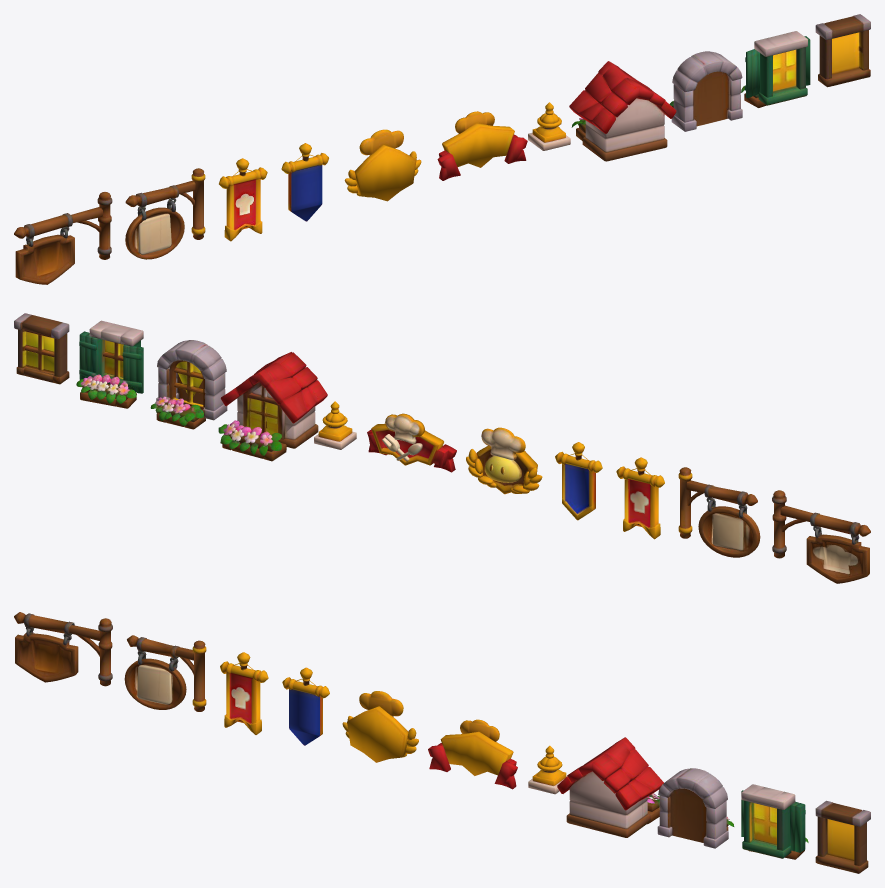
Rendered from restaurant_pieces.glb.
The picture shows the model from 3 angles, top to bottom: view 1: azimuth 30°, elevation 25°; view 2: azimuth 150°, elevation 25°; view 3: azimuth 330°, elevation 25°; orthographic projection.
Visible parts, largest first — view 1: Dormer_RedRoof, Window_Arched, Sign_ChefShield, Sign_OvalBlank, Window_Shutters, ChefCrest_Ribbon, ChefCrest_Slime, Window_Plain, Banner_ChefRed, Banner_Blue, Finial_GoldStone; view 2: Dormer_RedRoof, Window_Arched, Window_Shutters, Sign_ChefShield, Sign_OvalBlank, ChefCrest_Slime, Window_Plain, ChefCrest_Ribbon, Banner_ChefRed, Banner_Blue, Finial_GoldStone; view 3: Dormer_RedRoof, Sign_ChefShield, Window_Arched, Sign_OvalBlank, Window_Shutters, ChefCrest_Ribbon, ChefCrest_Slime, Window_Plain, Banner_ChefRed, Banner_Blue, Finial_GoldStone.
Boxes of the visible parts, bbox=[...] form: Dormer_RedRoof: bbox=[569, 61, 676, 161]; Window_Arched: bbox=[669, 51, 742, 131]; Sign_ChefShield: bbox=[14, 192, 112, 284]; Sign_OvalBlank: bbox=[125, 168, 205, 259]; Window_Shutters: bbox=[741, 31, 810, 107]; ChefCrest_Ribbon: bbox=[437, 111, 527, 180]; ChefCrest_Slime: bbox=[344, 129, 421, 201]; Window_Plain: bbox=[815, 14, 870, 87]; Banner_ChefRed: bbox=[219, 158, 267, 241]; Banner_Blue: bbox=[281, 143, 328, 221]; Finial_GoldStone: bbox=[528, 102, 570, 150]; Dormer_RedRoof: bbox=[218, 352, 327, 461]; Window_Arched: bbox=[150, 340, 227, 429]; Window_Shutters: bbox=[76, 320, 143, 408]; Sign_ChefShield: bbox=[772, 490, 870, 583]; Sign_OvalBlank: bbox=[678, 467, 760, 557]; ChefCrest_Slime: bbox=[466, 427, 542, 494]; Window_Plain: bbox=[14, 313, 69, 384]; ChefCrest_Ribbon: bbox=[367, 413, 456, 472]; Banner_ChefRed: bbox=[616, 457, 664, 539]; Banner_Blue: bbox=[555, 442, 602, 520]; Finial_GoldStone: bbox=[314, 401, 356, 449]; Dormer_RedRoof: bbox=[557, 737, 663, 837]; Sign_ChefShield: bbox=[14, 612, 112, 686]; Window_Arched: bbox=[657, 768, 734, 848]; Sign_OvalBlank: bbox=[124, 635, 206, 711]; Window_Shutters: bbox=[741, 784, 808, 859]; ChefCrest_Ribbon: bbox=[428, 719, 517, 789]; ChefCrest_Slime: bbox=[342, 691, 418, 762]; Window_Plain: bbox=[815, 800, 870, 873]; Banner_ChefRed: bbox=[220, 652, 268, 734]; Banner_Blue: bbox=[282, 667, 329, 745]; Finial_GoldStone: bbox=[528, 745, 567, 794].
Bounding box in the file's own units: 58.1 × 5 × 5.62.
Materials: 1 (1 with a texture image).
